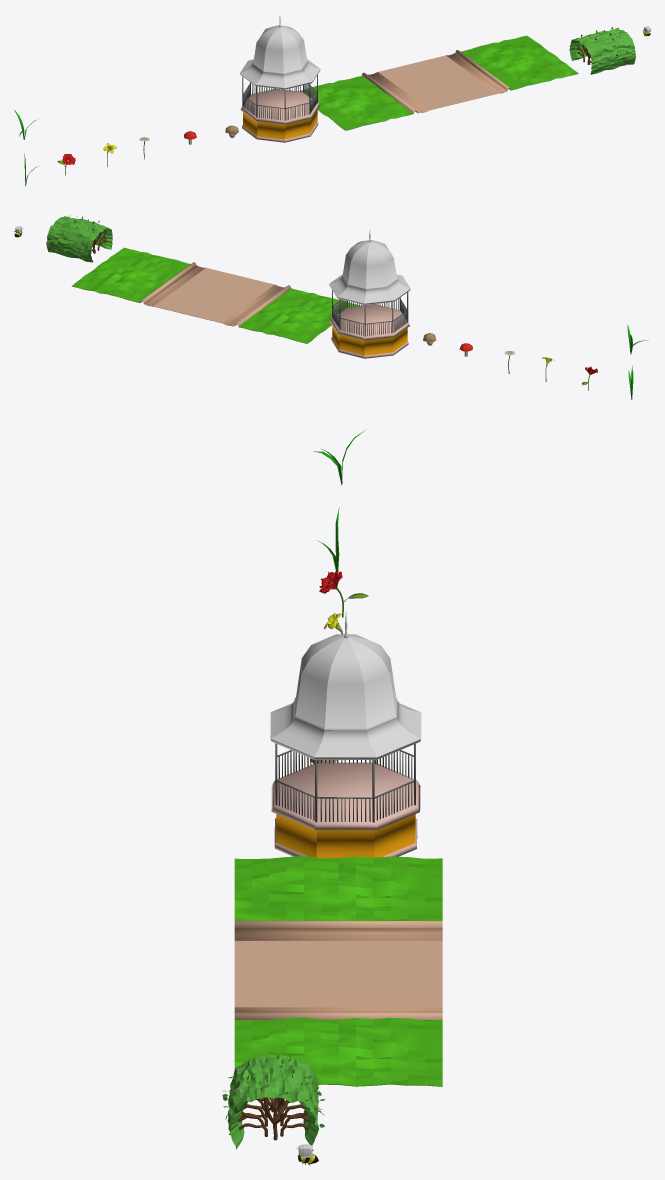
File: AntonioCenarioFase1.fbx_Entrega_1.fbx
3 views of the same model, one above another, from view 1: azimuth 30°, elevation 25°; view 2: azimuth 150°, elevation 25°; view 3: azimuth 270°, elevation 25° (orthographic). The views are drawn at different scales.
Parts seen in each view (by area): view 1: Calçada, Coreto, Arbusto; view 2: Calçada, Coreto, Arbusto; view 3: Calçada, Coreto, Arbusto.
Boxes of the visible parts, x1,y1,x2,y2 form: Calçada: (299, 35, 578, 130); Coreto: (240, 14, 320, 142); Arbusto: (569, 27, 635, 74); Calçada: (71, 247, 358, 343); Coreto: (329, 229, 410, 358); Arbusto: (46, 215, 112, 262); Calçada: (234, 856, 442, 1086); Coreto: (270, 612, 421, 858); Arbusto: (222, 1053, 324, 1149).
Bounding box in the file's own units: 9111 × 1551 × 1382.
